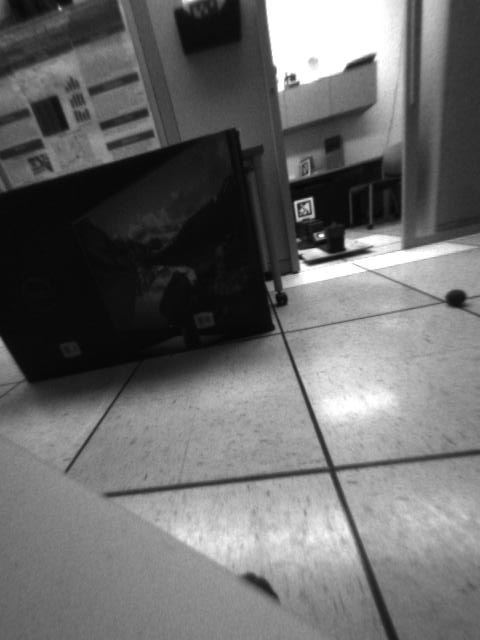dogtoy: (440, 277, 475, 316)
